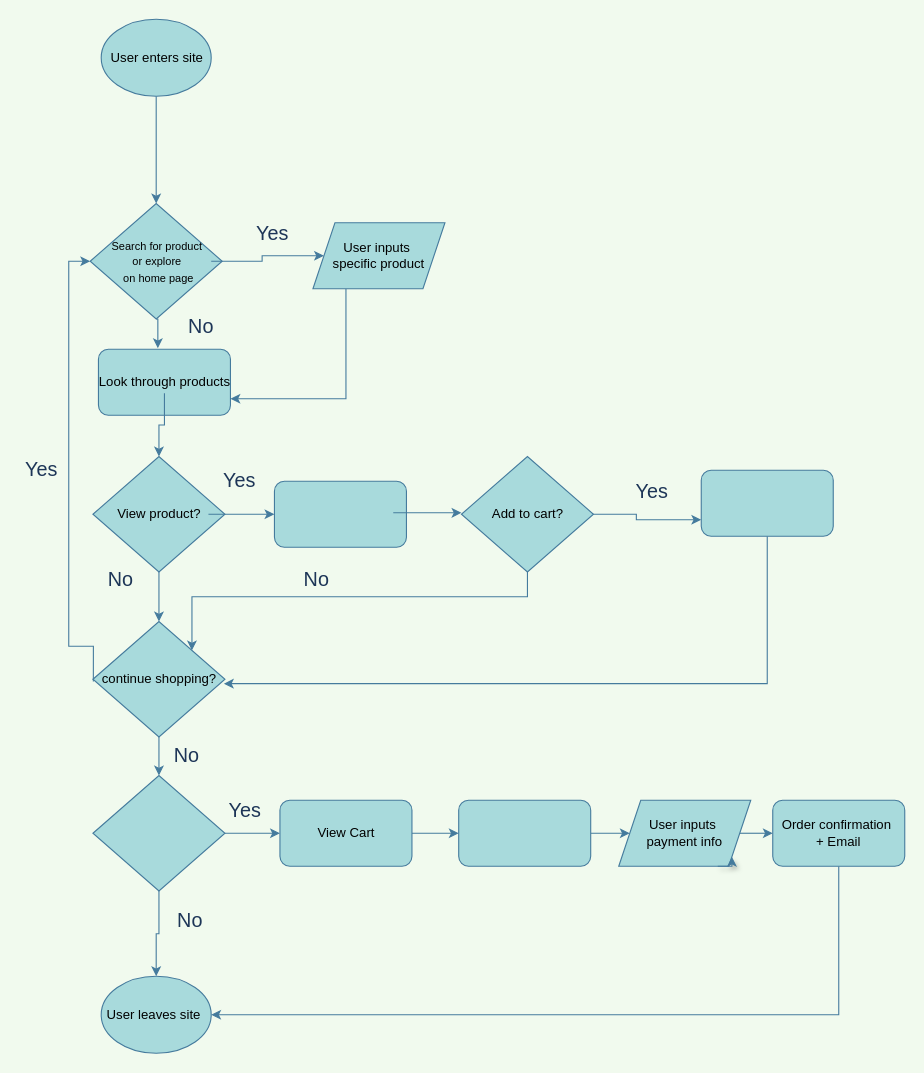
Some shapes in this 924 by 1073 pixel diagram are drawn without their labels. The shapes that lost their labels are listed below. From the top down, each one's centre as x and y in pixels, then its label:
At (x=339, y=513): "Product webpage".
At (x=766, y=502): "Cart Confirmation".
At (x=158, y=832): "checkout?".
At (x=524, y=832): "View Payment".
